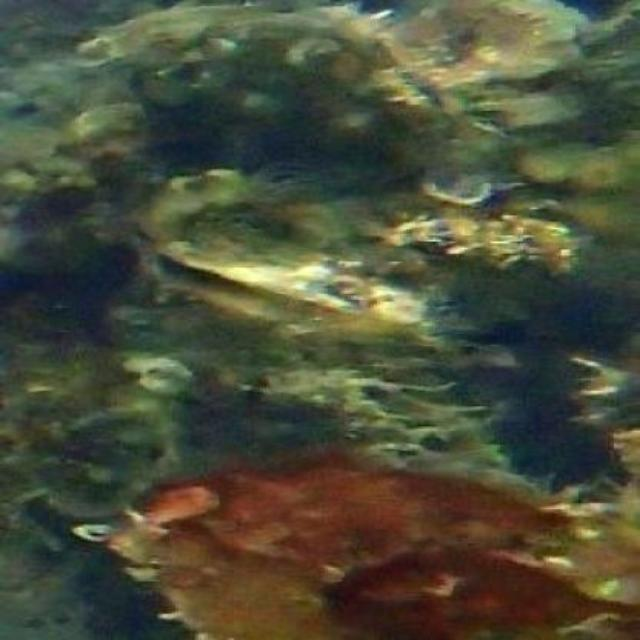Oyster-Closed: (89, 8, 451, 191), (380, 0, 594, 88)
Oyster-Open: (131, 216, 500, 340)
